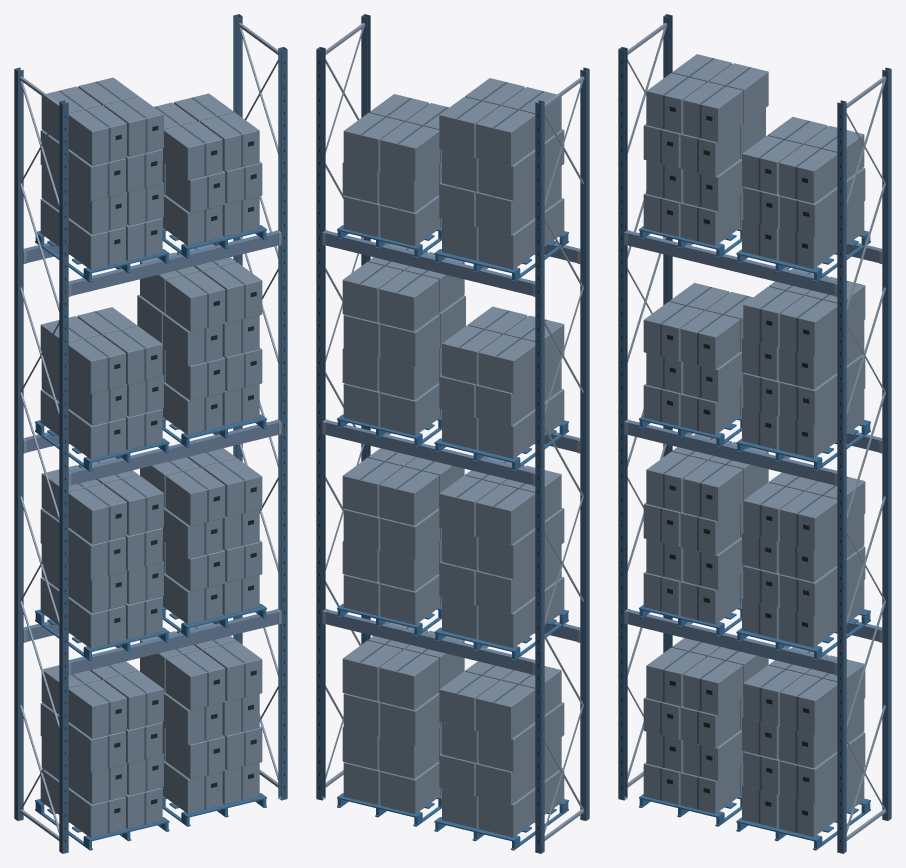
Rendered from SM_GHS_V2Rack_A_W28743.fbx.
3 renders of one model, left to right at view 1: azimuth 30°, elevation 25°; view 2: azimuth 150°, elevation 25°; view 3: azimuth 330°, elevation 25°, orthographic.
Parts seen in each view (by area): view 1: SM_GHS_V2Rack_A_W28743; view 2: SM_GHS_V2Rack_A_W28743; view 3: SM_GHS_V2Rack_A_W28743.
Boxes of the visible parts, x1,y1,x2,y2 form: SM_GHS_V2Rack_A_W28743: (14,14,287,853); SM_GHS_V2Rack_A_W28743: (316,14,589,853); SM_GHS_V2Rack_A_W28743: (618,14,891,853).
Bounding box in the file's own units: 287 × 122 × 915.
